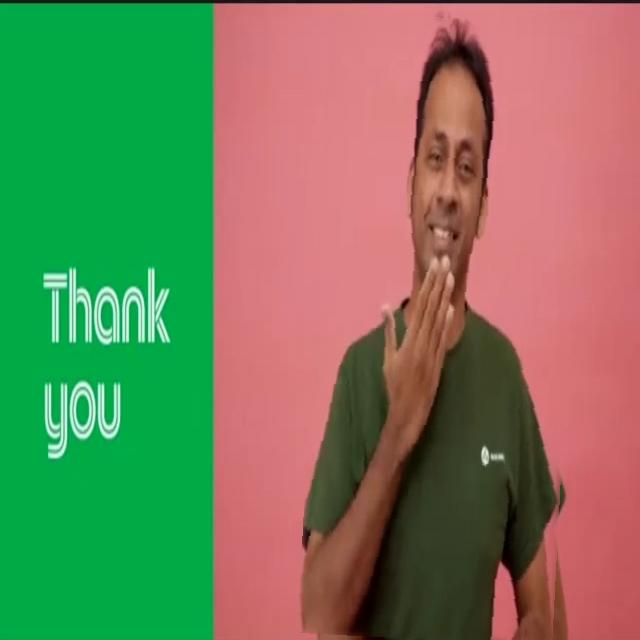ThankYou: (305, 15, 576, 640)
